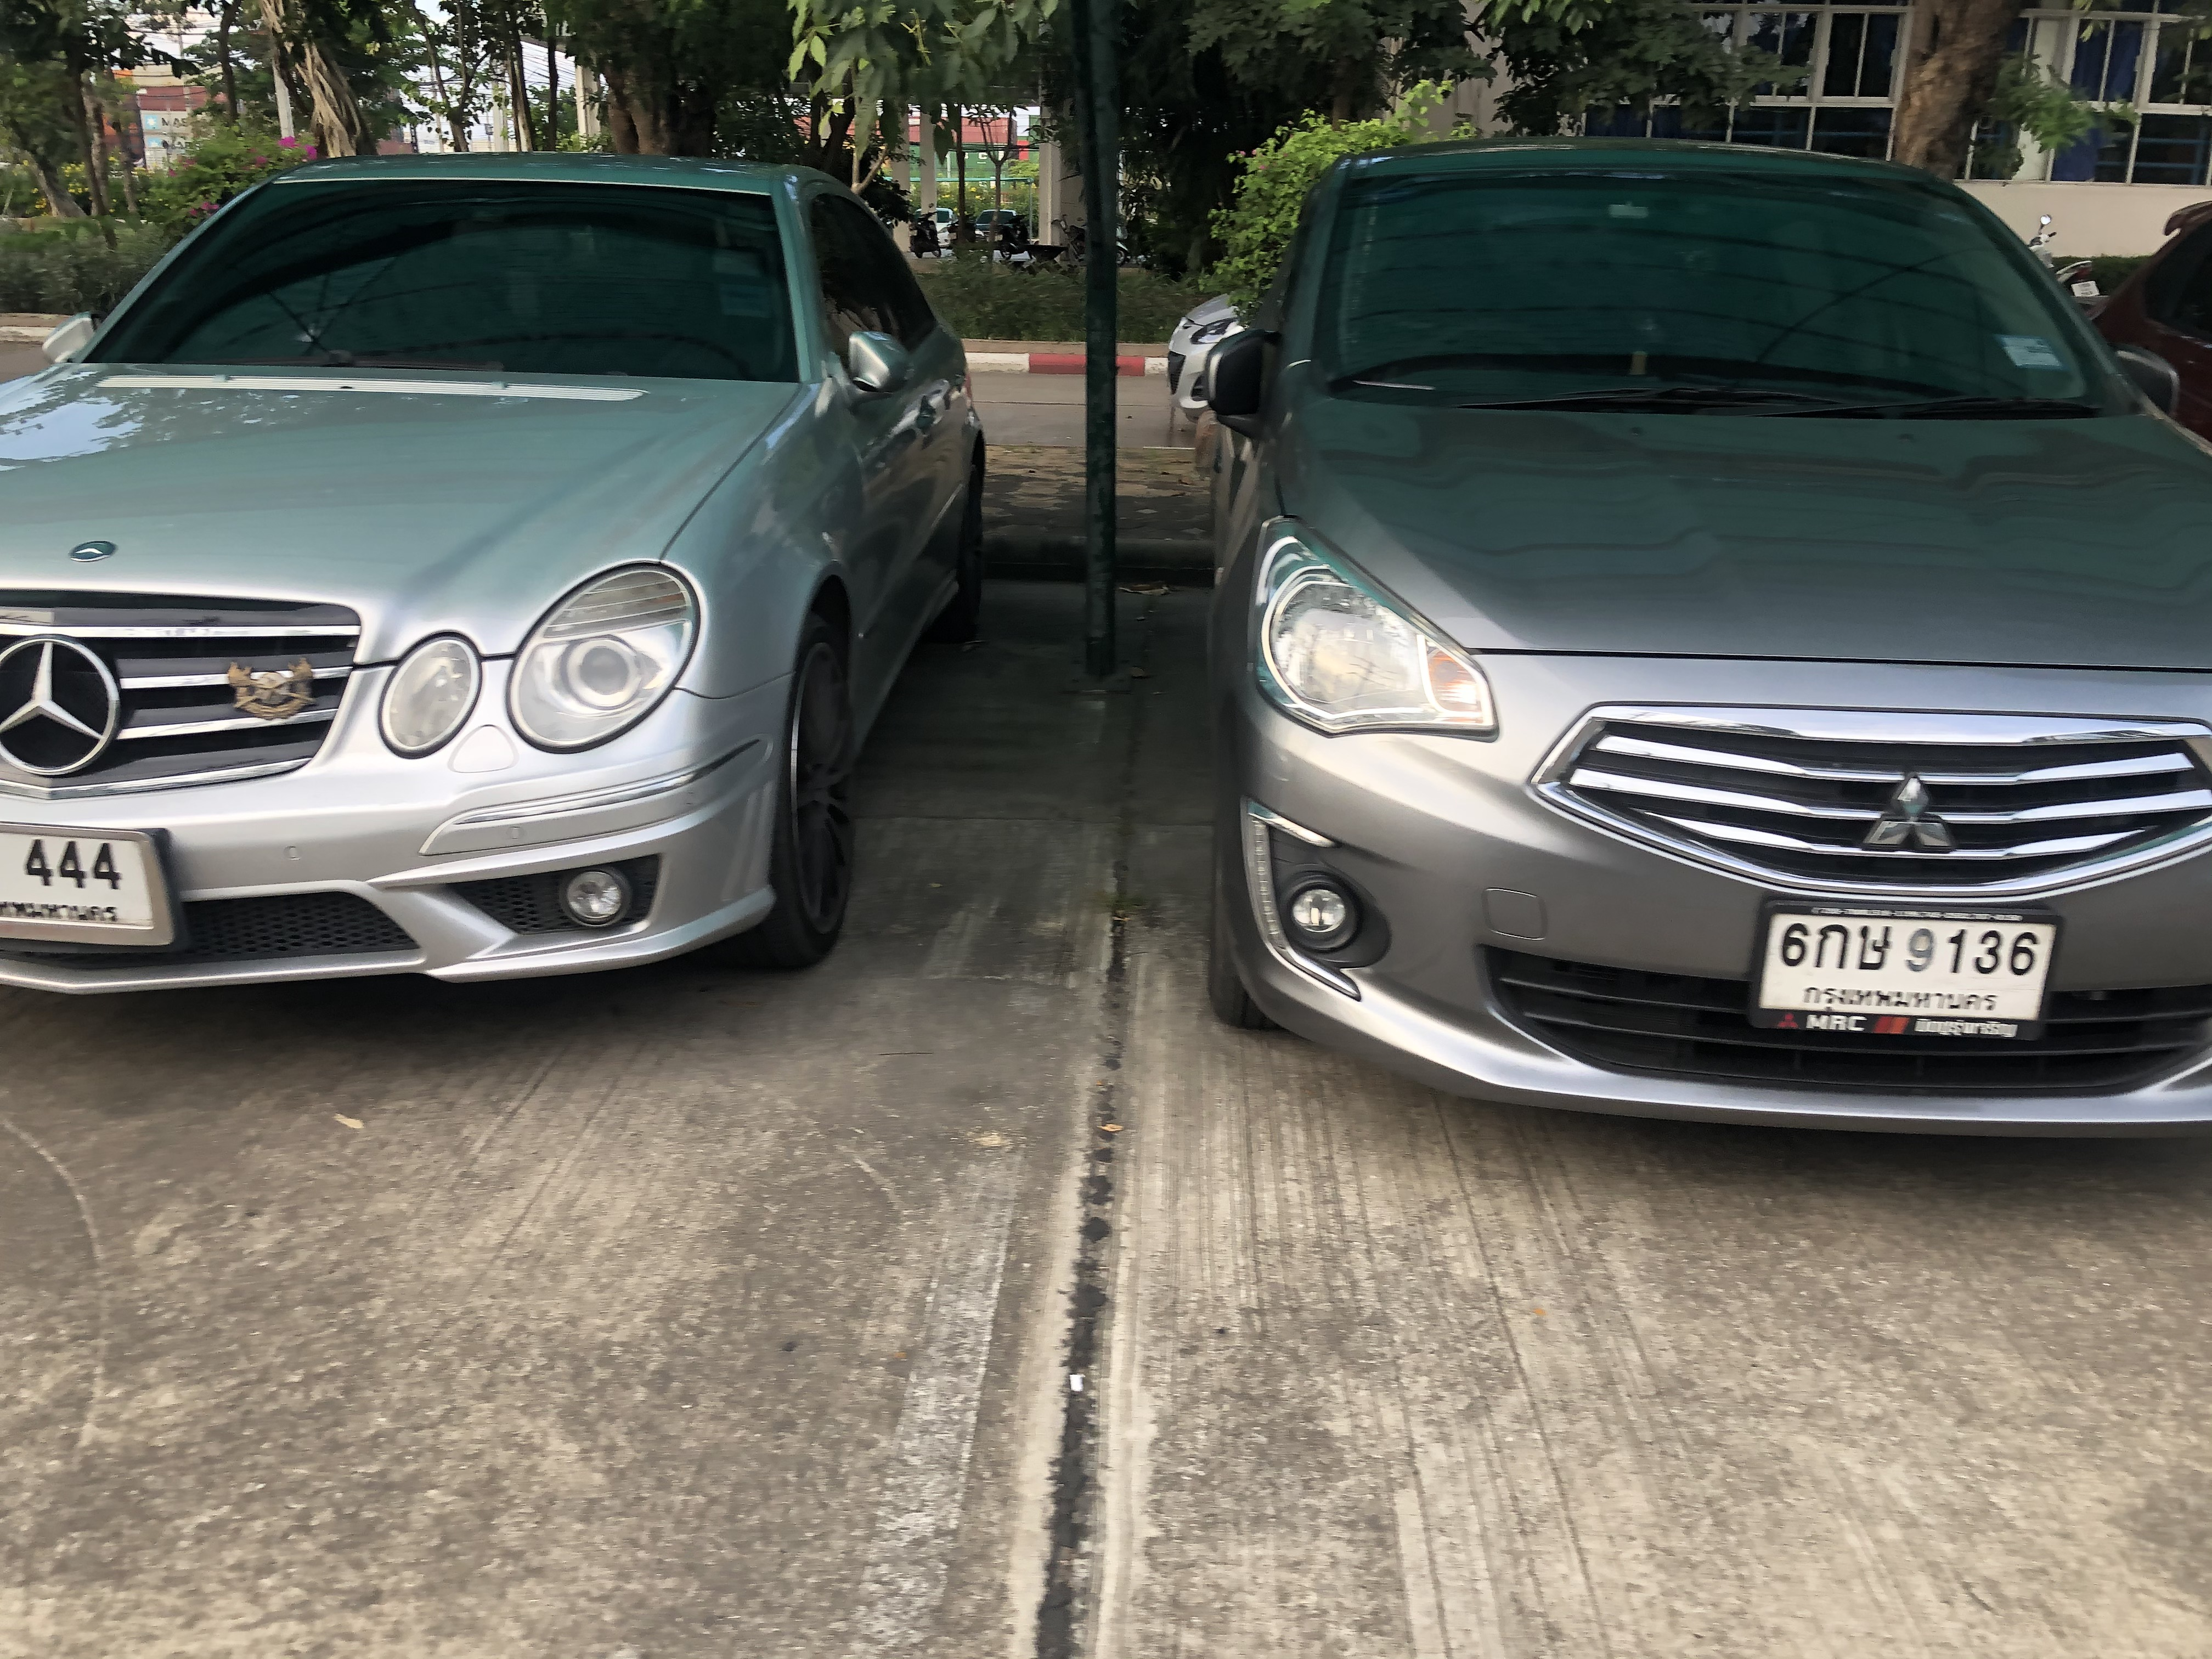in: (1761, 913, 2052, 1021)
out: (1749, 896, 2057, 1044)
